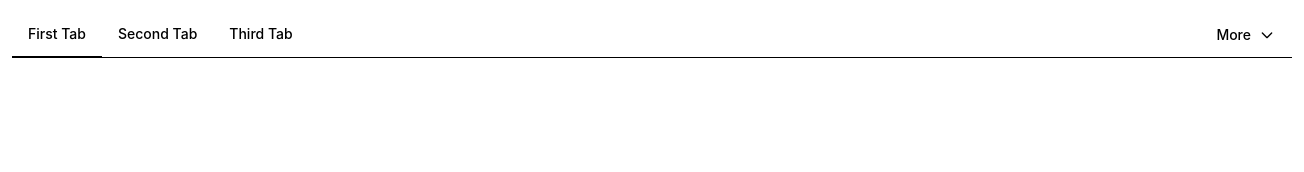
it: TabNavigation › Overflow tabs (More menu) › closes dropdown when clicking outside
The image size is (1304, 172).
Click the button with test id "tab-more": (1246, 36) top-left (1199, 12), bottom-right (1292, 59)
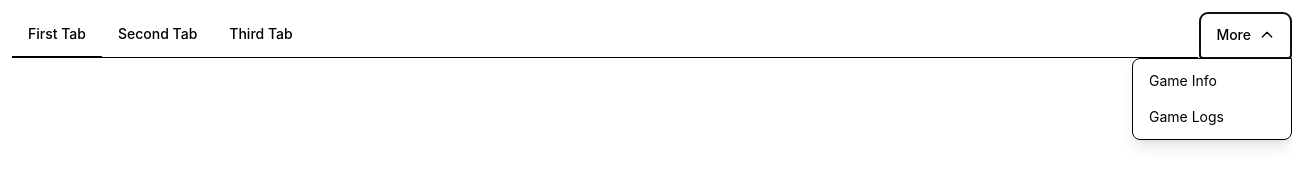
Now the button with test id "tab-info-overflow" is shown, box top-left (1133, 63), bottom-right (1291, 99)
Click the element showing "First Tab Second Tab Third Tab More Game Info Game Logs": (652, 35) top-left (12, 12), bottom-right (1292, 58)
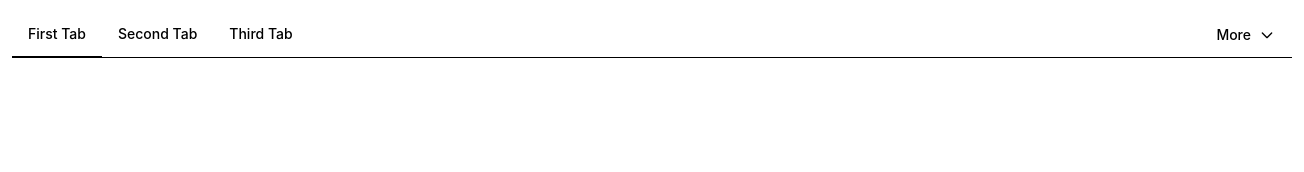
Now the button with test id "tab-info-overflow" is gone
